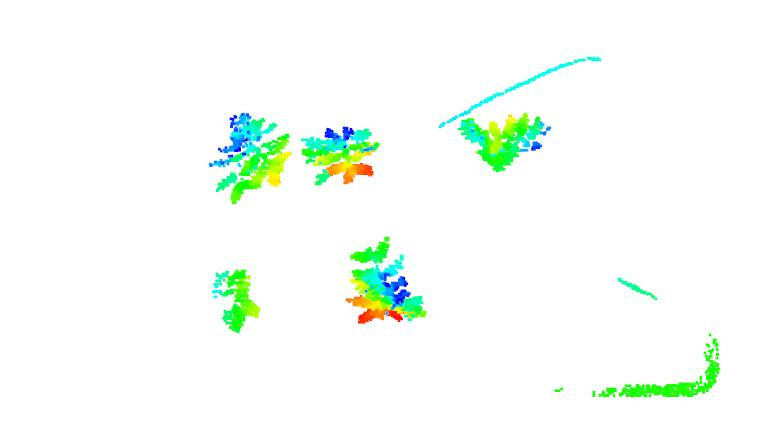chickpea: (206, 109, 290, 204), (349, 237, 428, 324), (457, 113, 552, 174), (300, 127, 381, 186), (210, 267, 263, 335)
